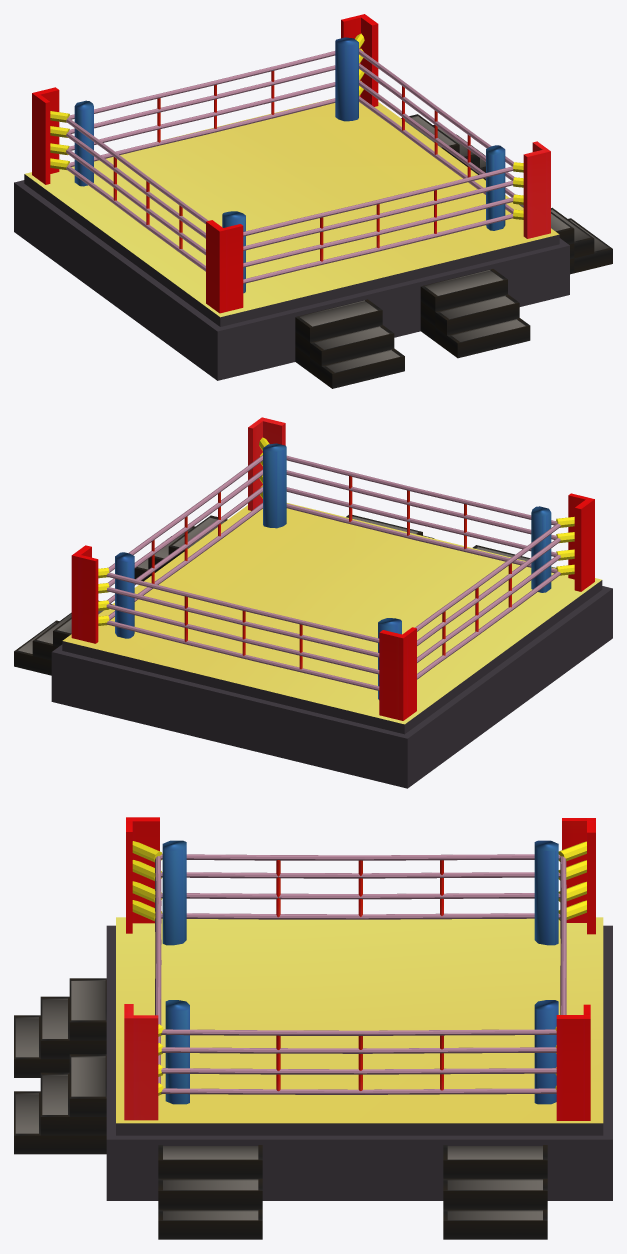
File: Ring.glb
The picture shows the model from 3 angles, top to bottom: view 1: azimuth 30°, elevation 25°; view 2: azimuth 150°, elevation 25°; view 3: azimuth 270°, elevation 25°; orthographic projection. The views are drawn at different scales.
Parts seen in each view (by area): view 1: Cube, Cube.013, Cube.011, Cube.006, Cube.007, Cube.005, Cube.009, Cube.002, Cylinder.018, Cube.008, Cylinder.004, Cylinder.005 (+18 smaller); view 2: Cube, Cube.005, Cube.008, Cube.006, Cube.001, Cube.010, Cylinder.018, Cube.007, Cylinder.024, Cylinder.009, Cylinder.010, Cylinder.011 (+16 smaller); view 3: Cube, Cube.009, Cube.010, Cube.013, Cube.011, Cube.007, Cube.008, Cylinder.014, Cube.004, Cube.003, Cylinder.027, Cylinder.002 (+13 smaller).
Boxes of the visible parts, bbox=[...] form: Cube: bbox=[14, 99, 569, 380]; Cube.013: bbox=[420, 269, 530, 358]; Cube.011: bbox=[295, 299, 404, 388]; Cube.006: bbox=[206, 220, 243, 313]; Cube.007: bbox=[523, 141, 550, 238]; Cube.005: bbox=[32, 87, 59, 184]; Cube.009: bbox=[519, 204, 612, 274]; Cube.002: bbox=[335, 37, 358, 121]; Cylinder.018: bbox=[113, 71, 470, 261]; Cube.008: bbox=[341, 14, 378, 106]; Cylinder.004: bbox=[243, 197, 513, 267]; Cylinder.005: bbox=[243, 180, 513, 250]; Cube: bbox=[51, 503, 612, 788]; Cube.005: bbox=[379, 627, 416, 720]; Cube.008: bbox=[71, 545, 98, 643]; Cube.006: bbox=[568, 493, 594, 591]; Cube.001: bbox=[263, 443, 286, 528]; Cube.010: bbox=[14, 600, 112, 675]; Cylinder.018: bbox=[151, 476, 511, 669]; Cube.007: bbox=[248, 417, 285, 510]; Cylinder.024: bbox=[106, 572, 379, 642]; Cylinder.009: bbox=[107, 587, 379, 657]; Cylinder.010: bbox=[106, 604, 379, 674]; Cylinder.011: bbox=[106, 620, 379, 690]; Cube: bbox=[106, 917, 612, 1200]; Cube.009: bbox=[158, 1145, 262, 1239]; Cube.010: bbox=[443, 1145, 547, 1239]; Cube.013: bbox=[14, 1054, 106, 1154]; Cube.011: bbox=[14, 978, 106, 1077]; Cube.007: bbox=[124, 1004, 158, 1120]; Cube.008: bbox=[556, 1004, 590, 1120]; Cylinder.014: bbox=[132, 841, 586, 1095]; Cube.004: bbox=[162, 840, 186, 945]; Cube.003: bbox=[534, 840, 558, 945]; Cylinder.027: bbox=[161, 1029, 556, 1035]; Cylinder.002: bbox=[161, 1088, 556, 1094].
Bounding box in the file's own units: 14.86 × 4.82 × 14.88.
Materials: 6 (6 with a texture image).
